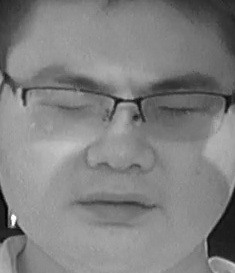blink: (154, 102, 195, 118), (59, 99, 89, 115)
glass: (134, 85, 229, 142), (21, 81, 114, 138)
mouth: (72, 184, 154, 225)
